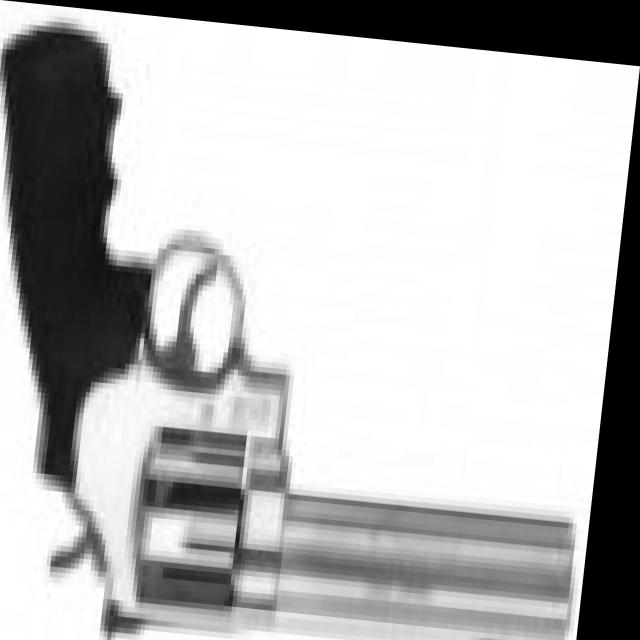handgun: (0, 38, 613, 640)
